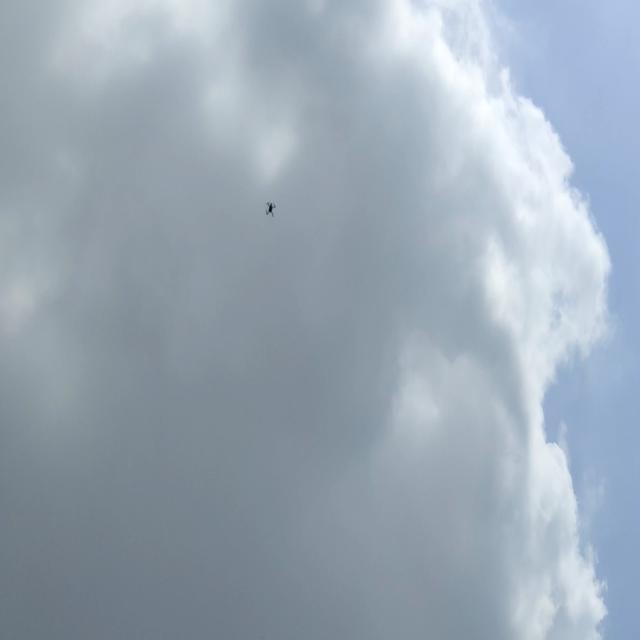drone: (264, 197, 278, 221)
